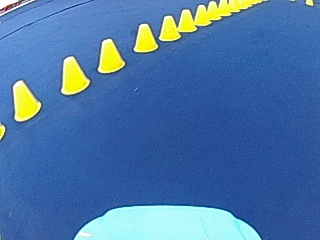cone: (10, 78, 41, 120), (59, 54, 90, 94), (96, 37, 125, 72), (132, 22, 158, 52), (158, 14, 179, 40), (176, 8, 196, 32), (193, 4, 209, 25), (206, 0, 218, 19), (218, 0, 228, 16)
